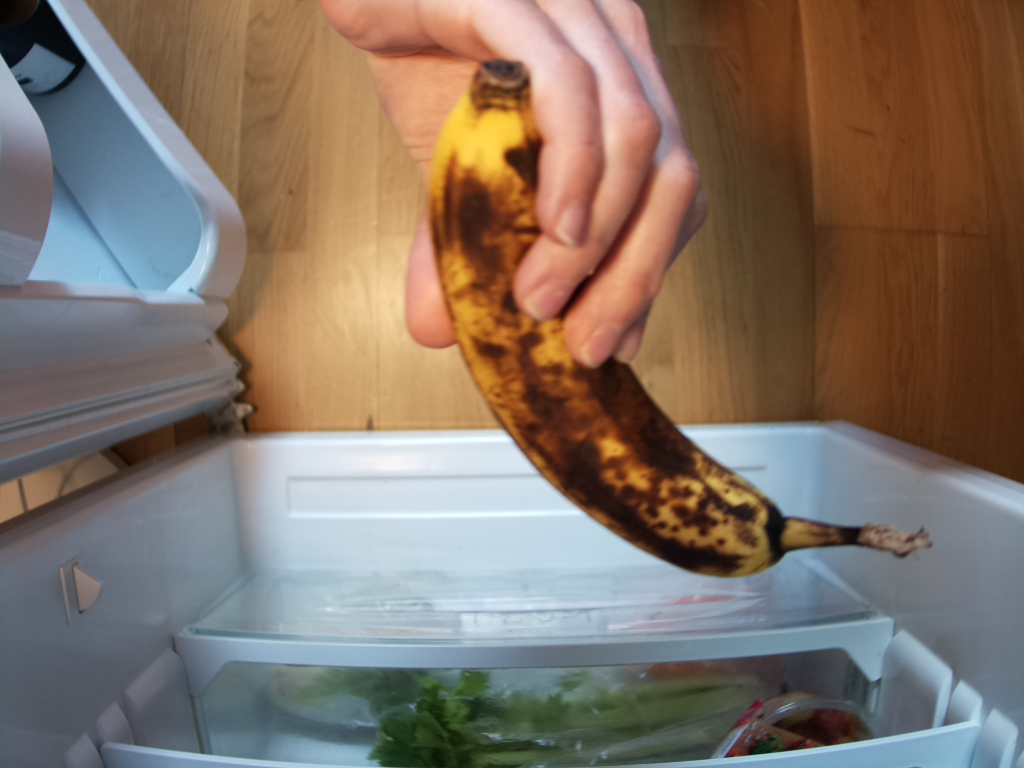banana-overripe: (419, 63, 933, 580)
